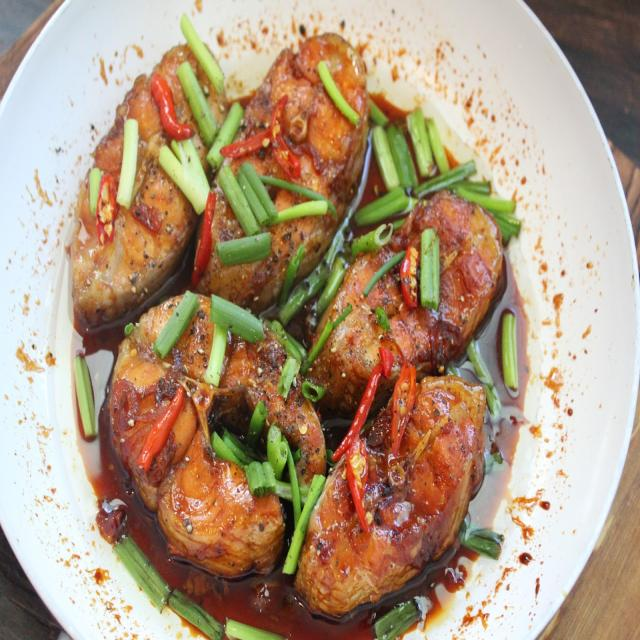ca kho: (108, 295, 325, 576), (194, 34, 370, 313), (296, 375, 486, 615), (71, 44, 226, 333), (308, 191, 504, 414)
ot: (332, 348, 390, 529), (387, 364, 416, 455)
